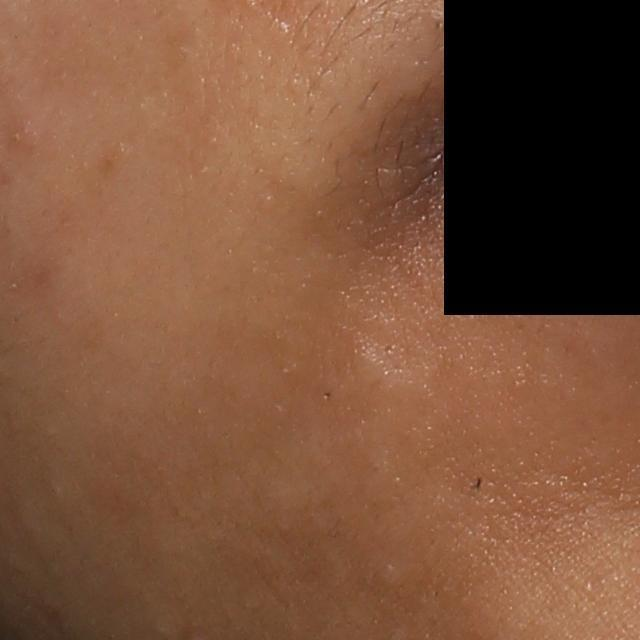comedo: (150, 620, 171, 637)
